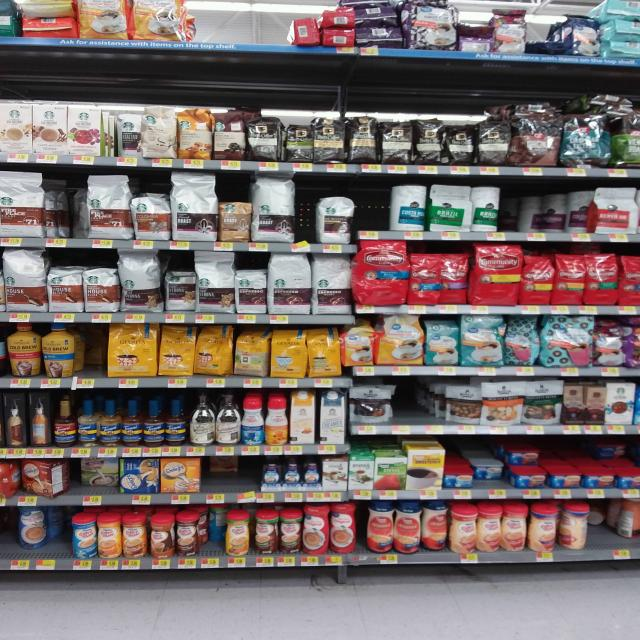void: (193, 0, 292, 47), (397, 380, 441, 434), (52, 172, 80, 251), (356, 175, 388, 241), (78, 323, 108, 391), (503, 181, 532, 245), (0, 509, 27, 572), (570, 180, 595, 248), (538, 181, 564, 246), (592, 502, 616, 561)
